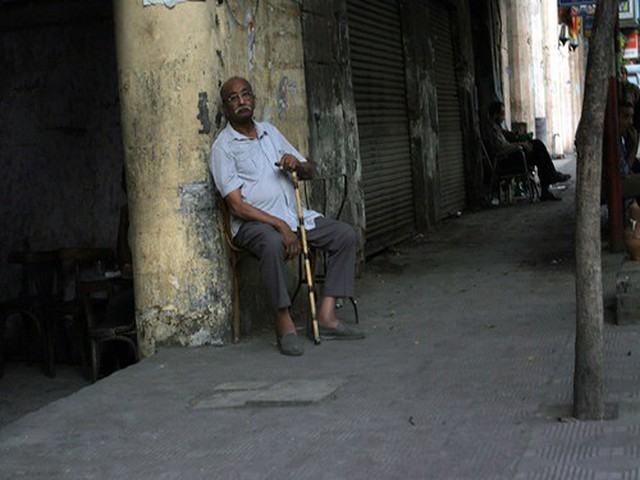Person: (199, 77, 368, 353), (485, 101, 566, 199)
